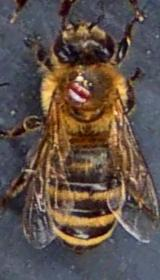varroa_mite: (61, 68, 95, 112)
